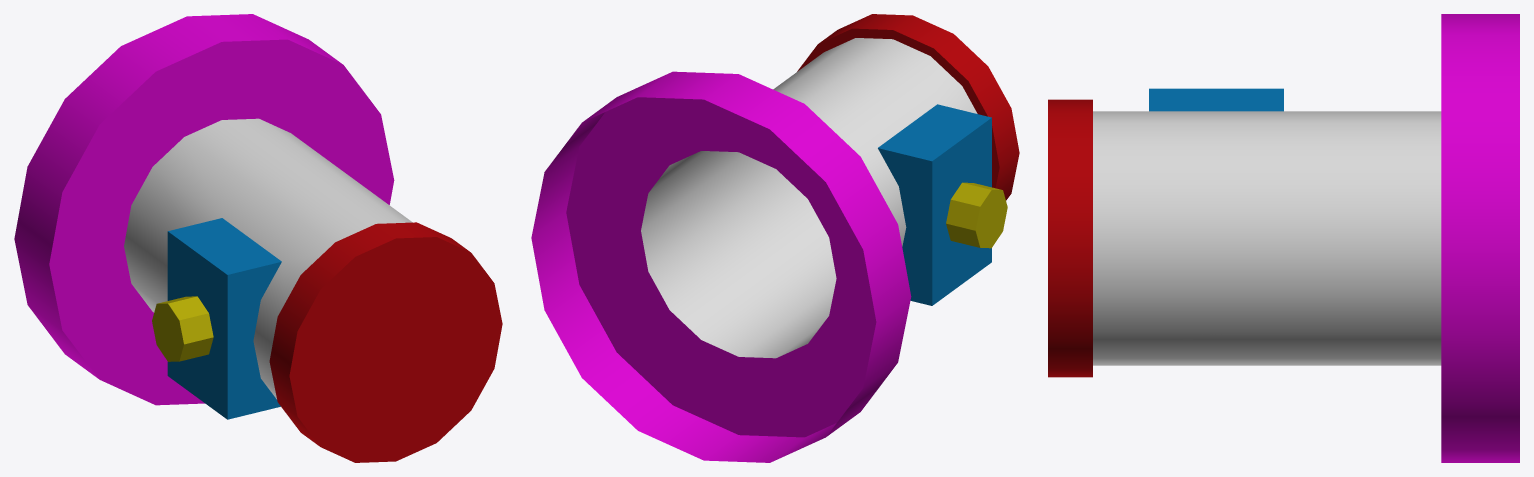
The model's file is transmitter.fbx.
3 renders of one model, left to right at view 1: azimuth 30°, elevation 25°; view 2: azimuth 150°, elevation 25°; view 3: azimuth 270°, elevation 25°, orthographic. The views are drawn at different scales.
Parts seen in each view (by area): view 1: Transmitter; view 2: Transmitter; view 3: Transmitter.
Boxes of the visible parts, box(x1,y1,x2,y2) form: Transmitter: box(14, 14, 502, 462); Transmitter: box(531, 14, 1019, 462); Transmitter: box(1048, 14, 1519, 462).
Size of the model in its own units: 20 by 20 by 21.
